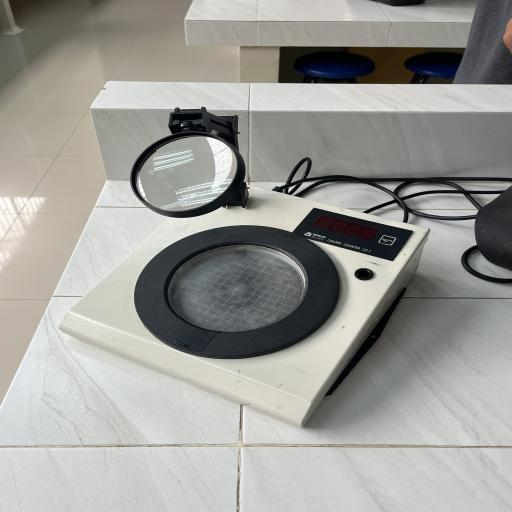Contador_Colonias_CC1: (48, 101, 446, 432)
